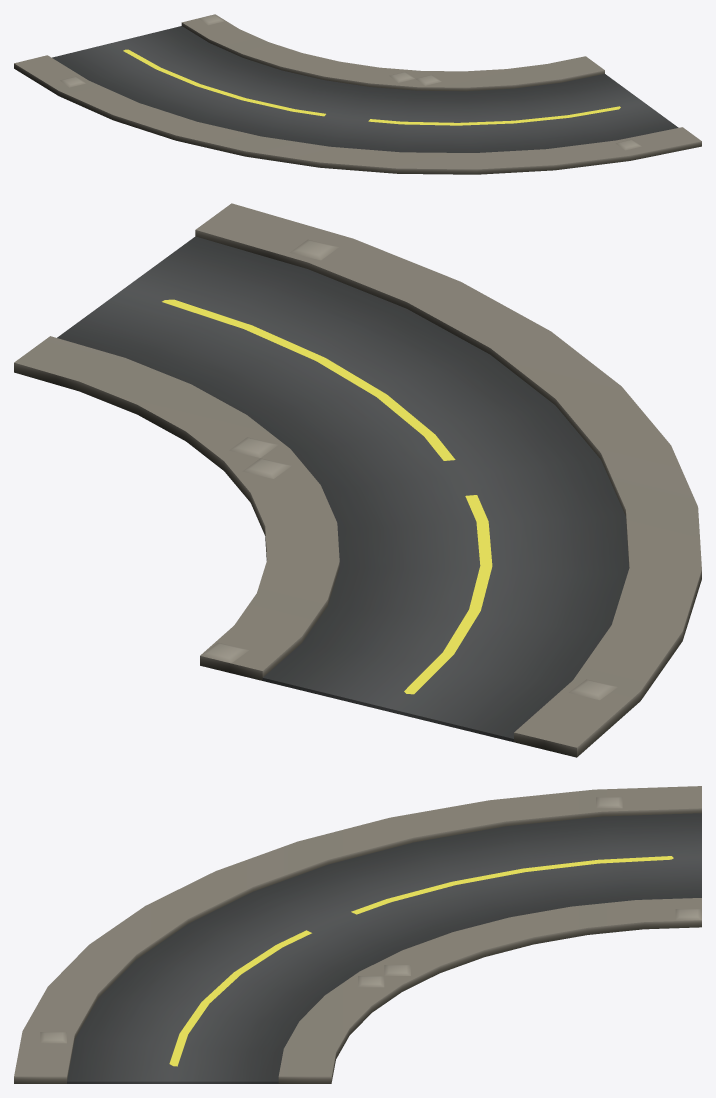
Rendered from Road_1E.fbx.
3 renders of one model, top to bottom at view 1: azimuth 30°, elevation 25°; view 2: azimuth 150°, elevation 25°; view 3: azimuth 270°, elevation 25°, orthographic. The views are drawn at different scales.
Visible parts, largest first — view 1: Road_1E; view 2: Road_1E; view 3: Road_1E.
Part boxes in pixels (x1=…): Road_1E: x1=14, y1=14, x2=701, y2=174; Road_1E: x1=14, y1=203, x2=701, y2=757; Road_1E: x1=14, y1=786, x2=701, y2=1083.
Bounding box in the file's own units: 26 × 0.3565 × 26.
